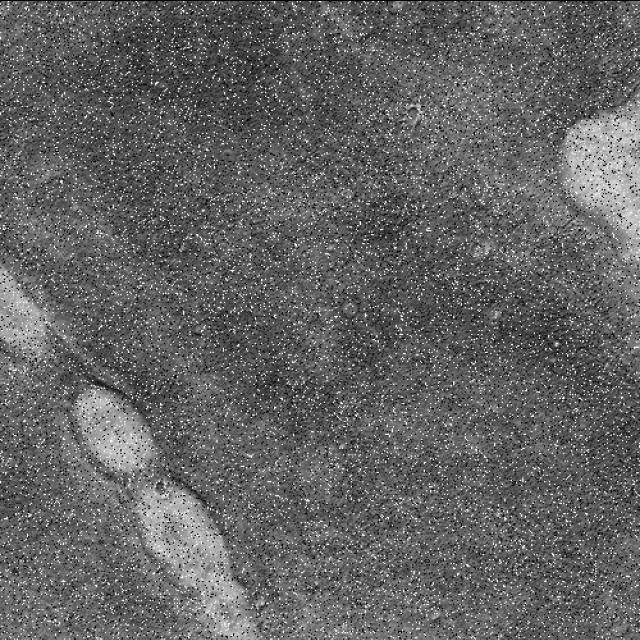crater: (0, 248, 92, 372), (440, 212, 512, 282), (386, 80, 431, 144), (601, 0, 640, 66), (614, 494, 640, 557), (144, 472, 178, 508), (620, 340, 640, 401), (1, 558, 30, 585)
